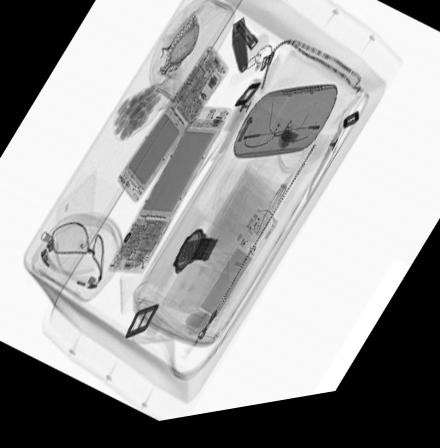Powerbank: (114, 49, 226, 208)
